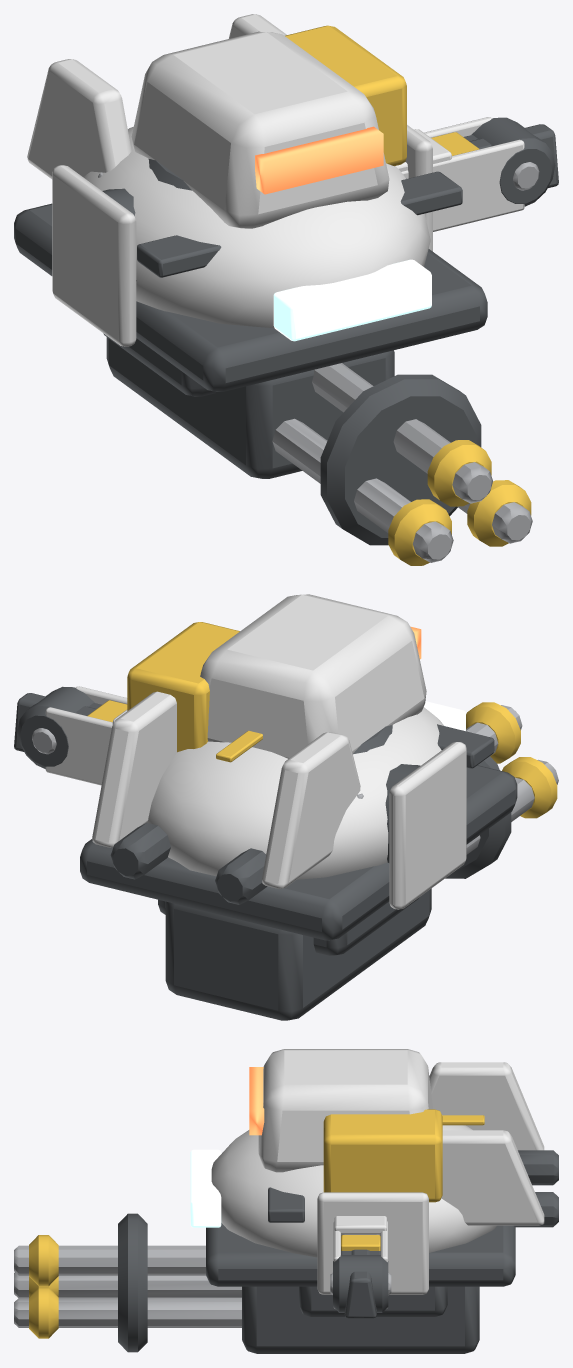
File: burst.glb
3 renders of one model, top to bottom at view 1: azimuth 30°, elevation 25°; view 2: azimuth 150°, elevation 25°; view 3: azimuth 270°, elevation 25°, orthographic. The views are drawn at different scales.
Parts seen in each view (by area): view 1: Hull, Barrel, Turret, LegUpper, LegLower; view 2: Hull, Turret, Barrel, LegUpper, LegLower; view 3: Hull, Barrel, Turret, LegUpper, LegLower.
Part boxes in pixels (x1,y1,x2,y2): Hull: [14, 14, 487, 396]; Barrel: [106, 337, 532, 565]; Turret: [131, 25, 406, 228]; LegUpper: [396, 117, 555, 231]; LegLower: [431, 124, 558, 187]; Hull: [80, 691, 517, 955]; Turret: [127, 594, 426, 758]; Barrel: [165, 702, 558, 1020]; LegUpper: [17, 686, 127, 785]; LegLower: [14, 693, 127, 751]; Hull: [190, 1062, 558, 1316]; Barrel: [14, 1213, 479, 1353]; Turret: [249, 1049, 442, 1202]; LegUpper: [330, 1216, 391, 1312]; LegLower: [341, 1234, 380, 1318].
Bounding box in the file's own units: 0.646 × 0.496 × 0.88.
